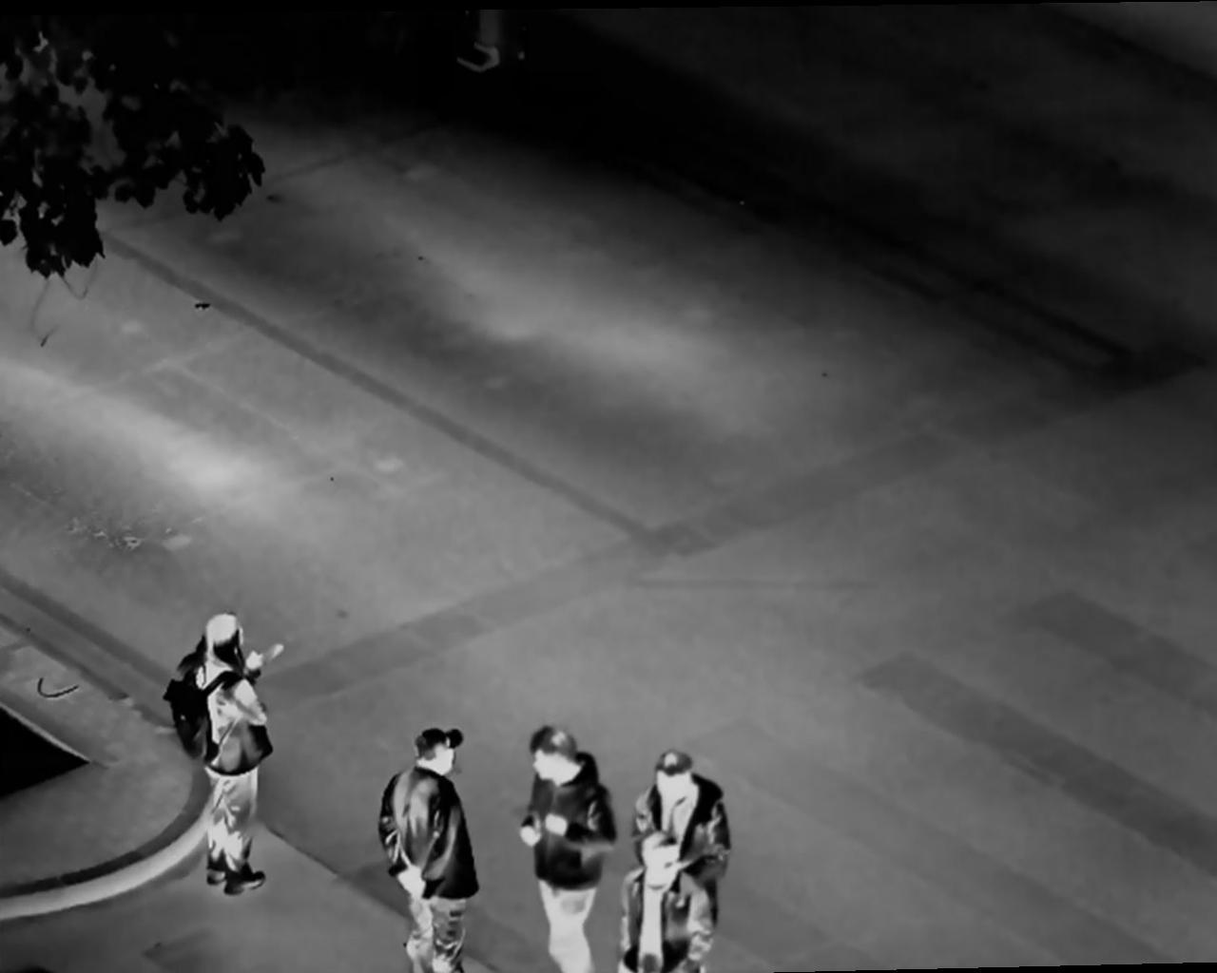person: (164, 615, 290, 896), (377, 724, 497, 968), (514, 724, 629, 973), (616, 837, 713, 973), (634, 747, 749, 852)
